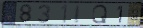1: (61, 4, 69, 24), (116, 5, 124, 24)
3: (37, 4, 52, 25)
8: (18, 4, 34, 24)
I: (74, 4, 82, 25)
Q: (91, 4, 109, 25)
